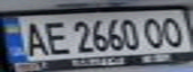0: (118, 16, 142, 51)
2: (69, 17, 93, 54)
6: (106, 17, 127, 52), (90, 16, 109, 53)
A: (18, 18, 51, 57)
E: (39, 18, 72, 56)
O: (157, 14, 190, 47), (139, 15, 169, 48)
